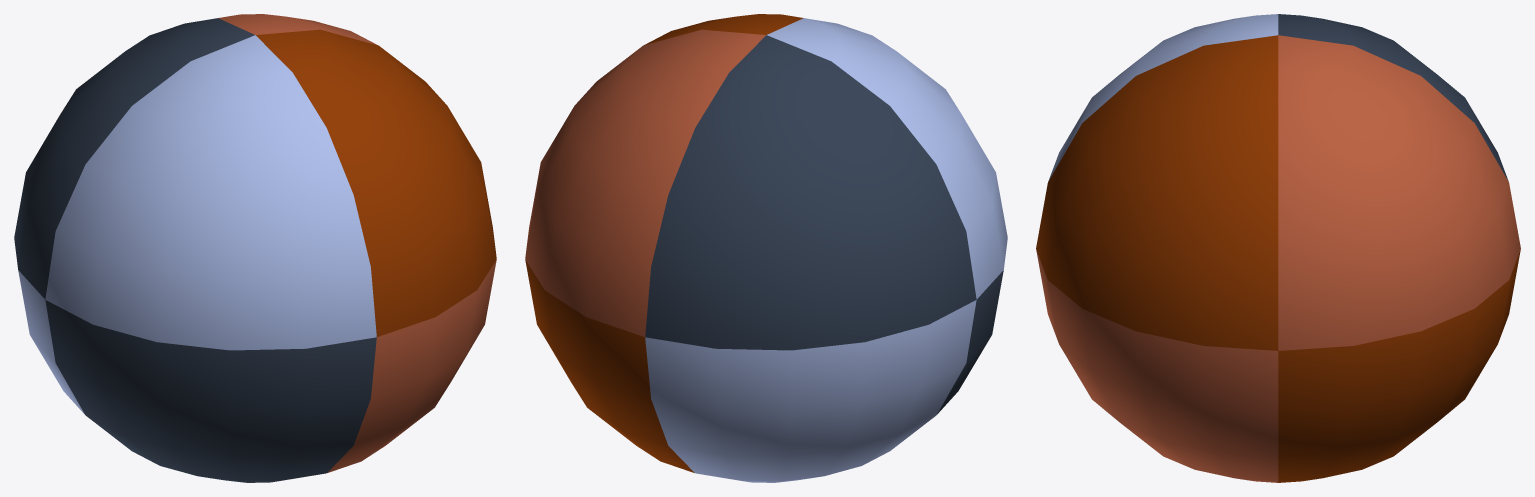
Rendered from Ball@idle.fbx.
3 renders of one model, left to right at view 1: azimuth 30°, elevation 25°; view 2: azimuth 150°, elevation 25°; view 3: azimuth 270°, elevation 25°, orthographic.
Parts seen in each view (by area): view 1: Ball; view 2: Ball; view 3: Ball.
Boxes of the visible parts, bbox=[...] form: Ball: bbox=[14, 14, 496, 482]; Ball: bbox=[525, 14, 1007, 482]; Ball: bbox=[1036, 14, 1520, 482].
Bounding box in the file's own units: 2.03 × 1.97 × 2.03.
